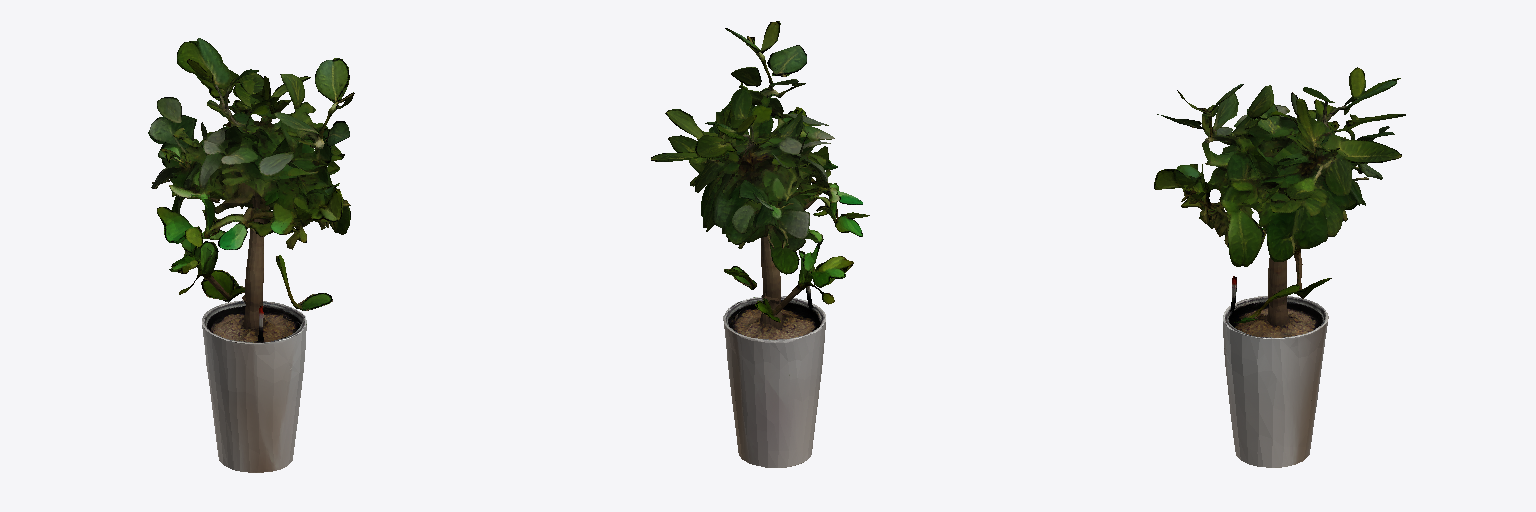
3 views of the same model, side by side, from view 1: azimuth 30°, elevation 25°; view 2: azimuth 150°, elevation 25°; view 3: azimuth 270°, elevation 25° (orthographic).
Parts seen in each view (by area): view 1: geometry_0; view 2: geometry_0; view 3: geometry_0.
Boxes of the visible parts, x1,y1,x2,y2 form: geometry_0: [148, 38, 354, 472]; geometry_0: [651, 21, 869, 467]; geometry_0: [1154, 67, 1405, 467].
Size of the model in its own units: 0.4787 by 0.9856 by 0.5685.
Materials: 1 (1 with a texture image).